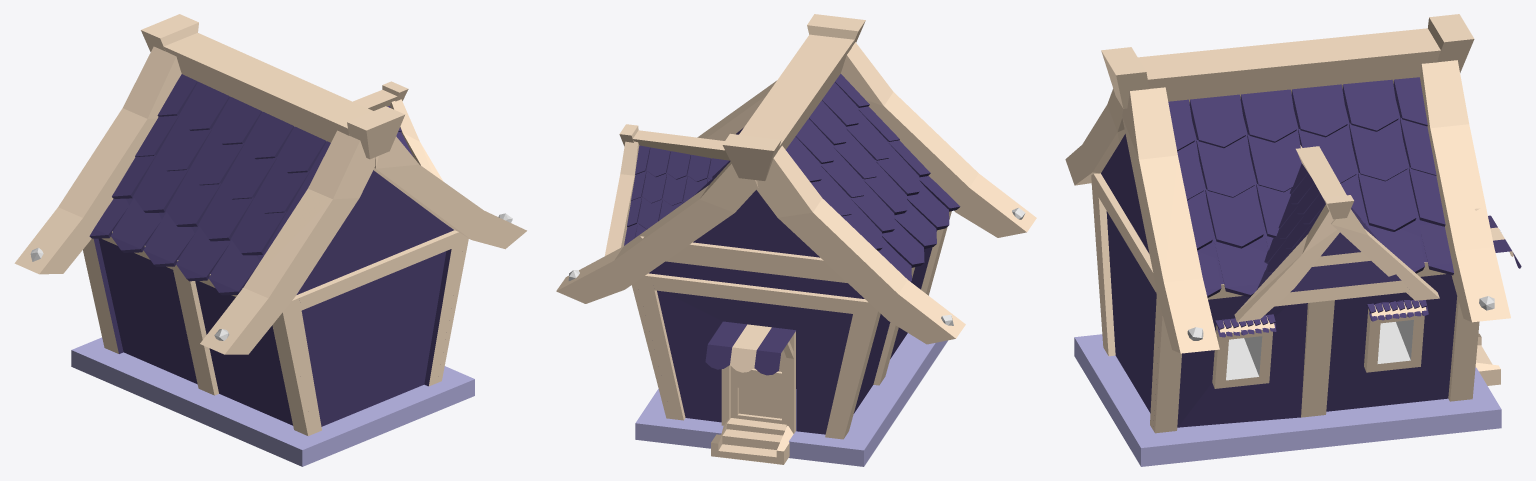
The model's file is MainHouse_Home-2.glb.
3 renders of one model, left to right at view 1: azimuth 30°, elevation 25°; view 2: azimuth 150°, elevation 25°; view 3: azimuth 270°, elevation 25°, orthographic. The views are drawn at different scales.
Visible parts, largest first — view 1: House.001; view 2: House.001; view 3: House.001.
Part boxes in pixels (x1,y1,x2,y2): House.001: (14, 14, 526, 466); House.001: (556, 14, 1036, 466); House.001: (1065, 14, 1521, 466).
Size of the model in its own units: 35.08 by 24.77 by 29.49.
